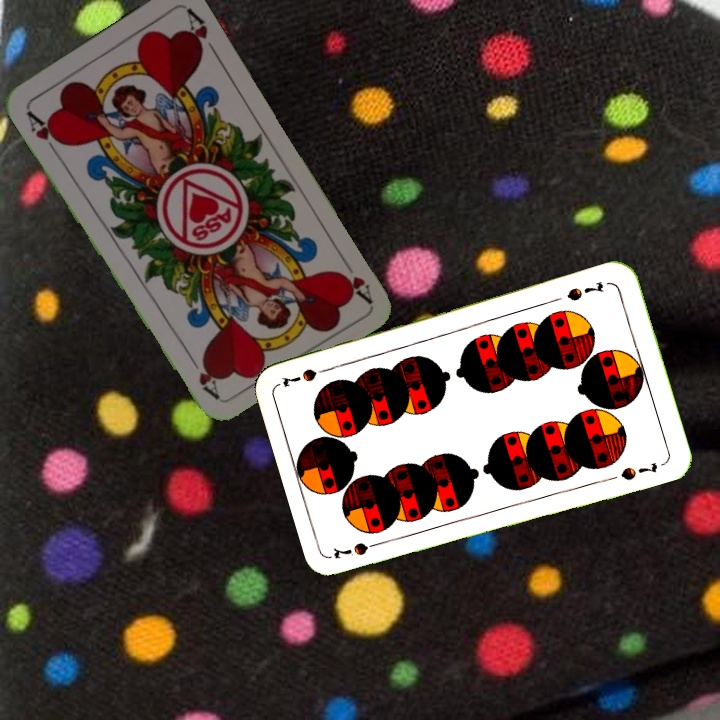HA: (22, 106, 67, 157), (333, 251, 375, 304)
S7: (329, 536, 388, 562), (563, 277, 606, 304)
